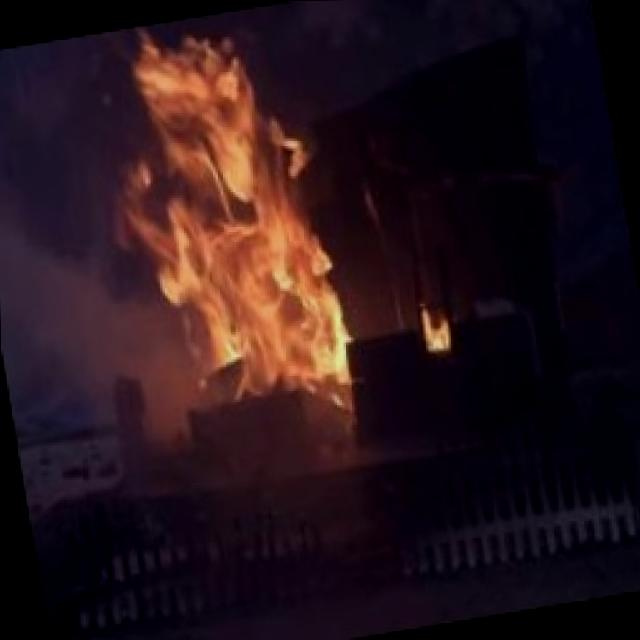fire: (92, 4, 397, 439)
